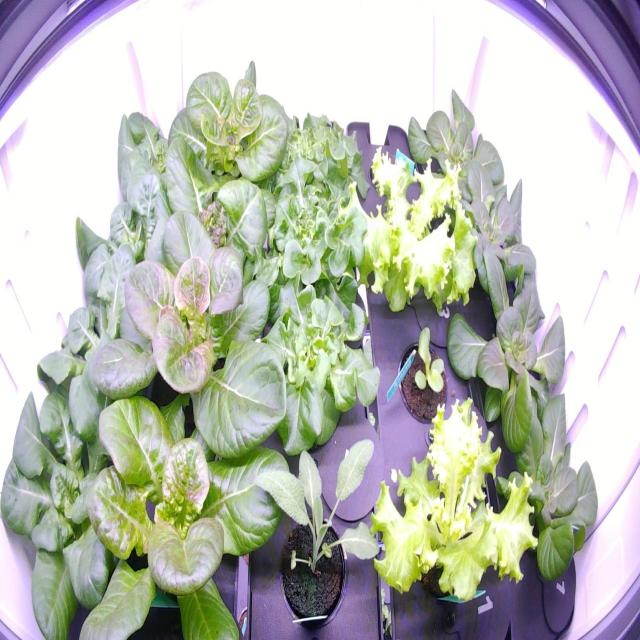young: (55, 352, 302, 640), (79, 201, 292, 468), (0, 364, 148, 635), (17, 221, 162, 458), (438, 234, 572, 449), (485, 386, 603, 592), (142, 125, 284, 286), (68, 158, 197, 310), (159, 57, 297, 186), (436, 156, 540, 310), (100, 102, 211, 236), (403, 84, 514, 205), (391, 316, 453, 428)
